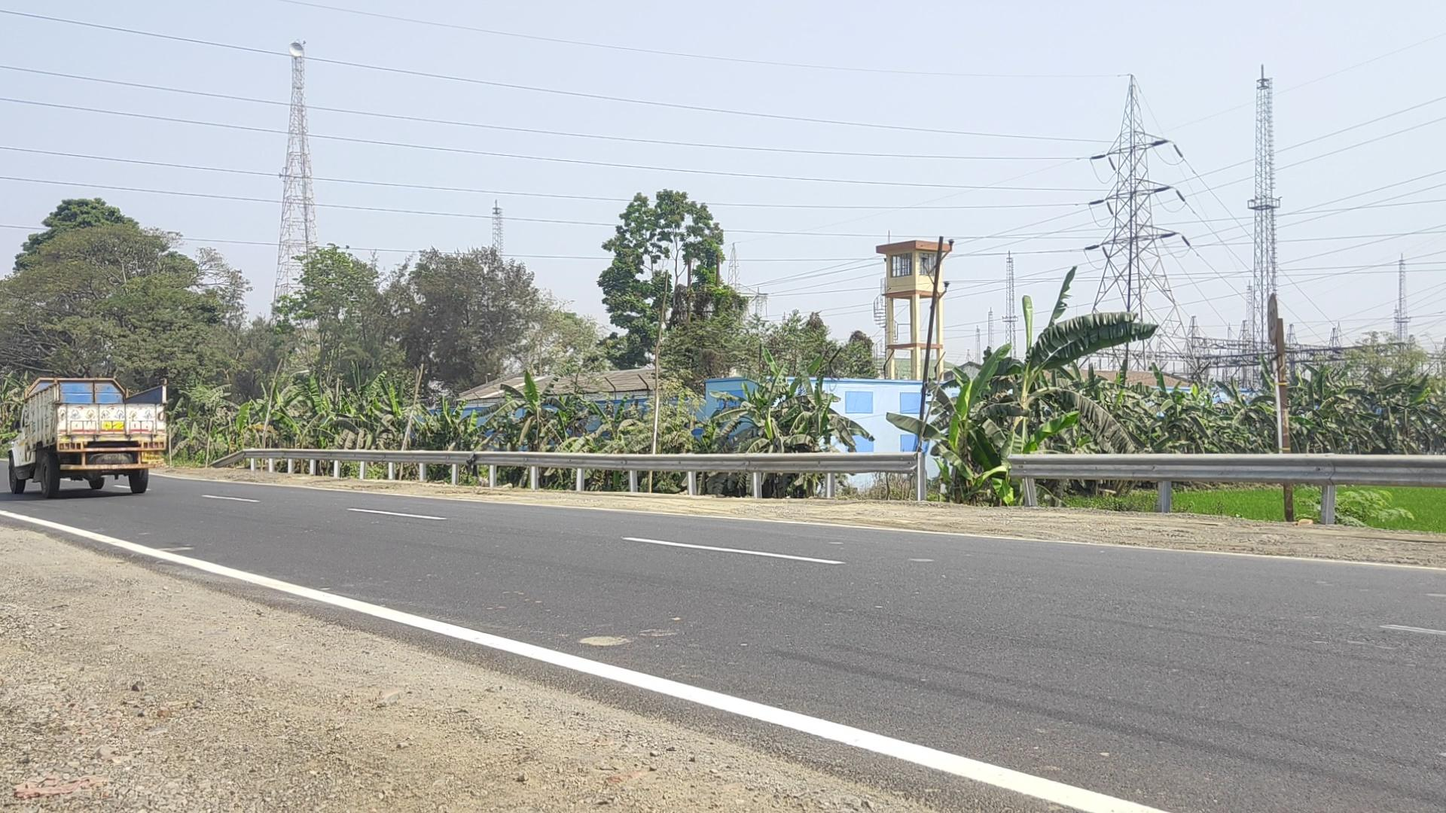van: (8, 376, 167, 498)
